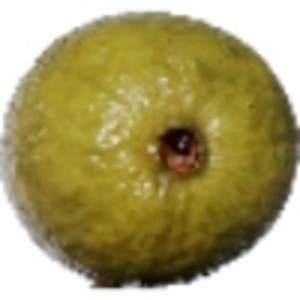goiaba: (5, 9, 293, 280)
